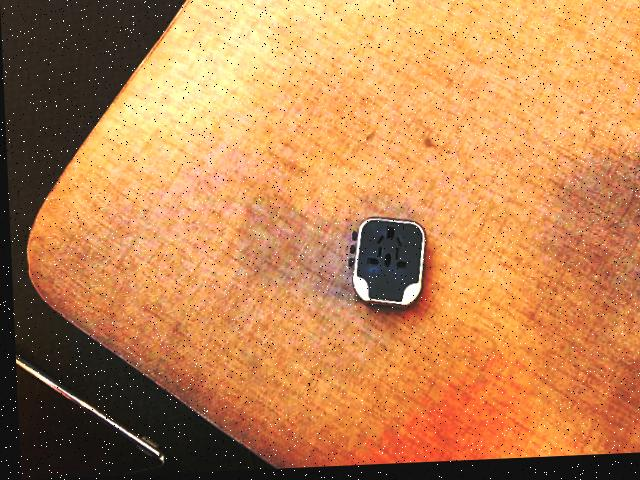adapter: (342, 218, 425, 312)
